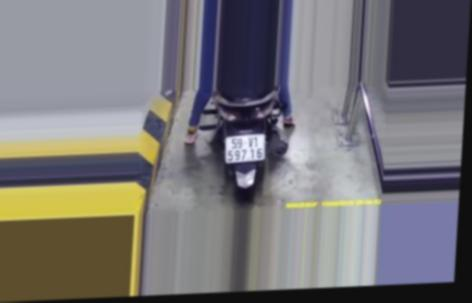License_Plate: (220, 133, 267, 168)
